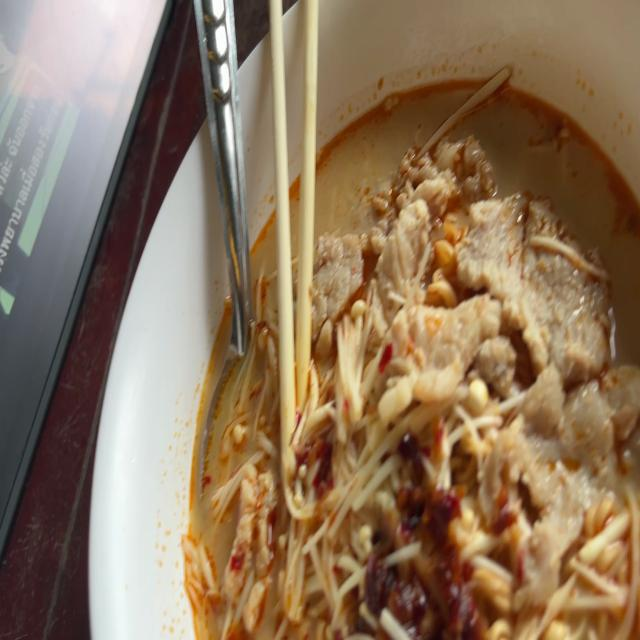noodle: (170, 50, 640, 640)
